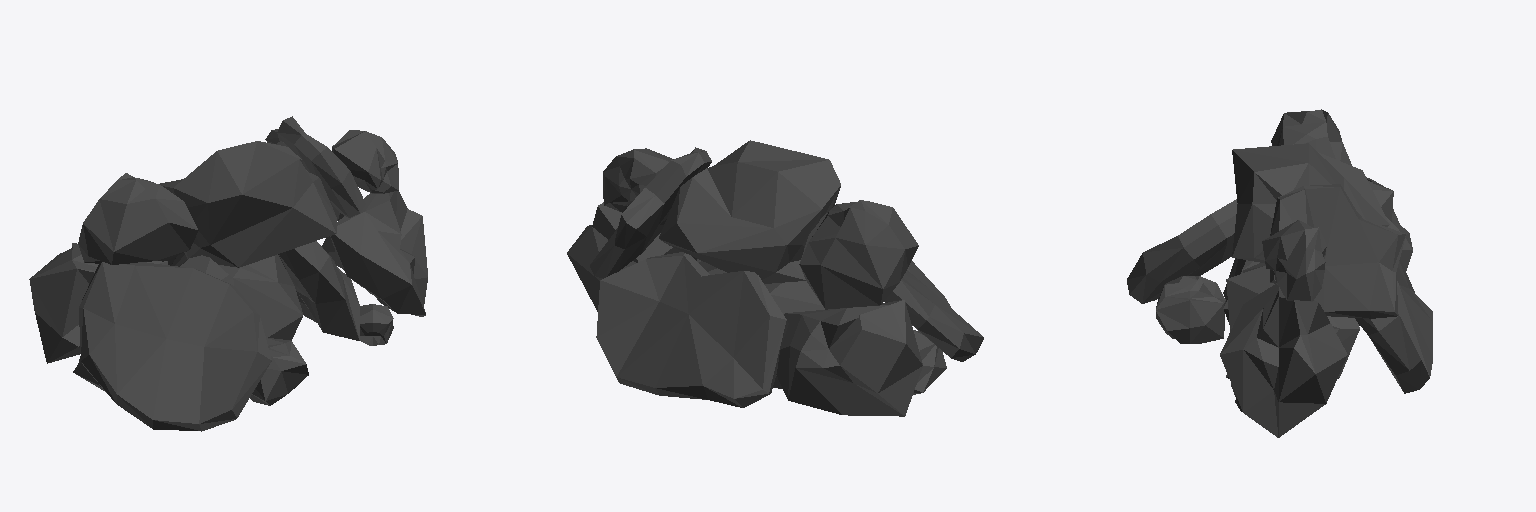
Rendered from kamni.obj.
3 views of the same model, side by side, from view 1: azimuth 30°, elevation 25°; view 2: azimuth 150°, elevation 25°; view 3: azimuth 270°, elevation 25° (orthographic).
Parts seen in each view (by area): view 1: Sphere008; view 2: Sphere008; view 3: Sphere008.
Boxes of the visible parts, x1=… form: Sphere008: x1=29, y1=116, x2=427, y2=431; Sphere008: x1=567, y1=140, x2=983, y2=416; Sphere008: x1=1127, y1=109, x2=1432, y2=437.
Size of the model in its own units: 1134 by 599 by 821.